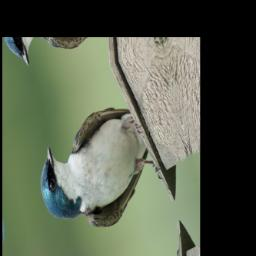Swallow: (29, 85, 168, 256)
